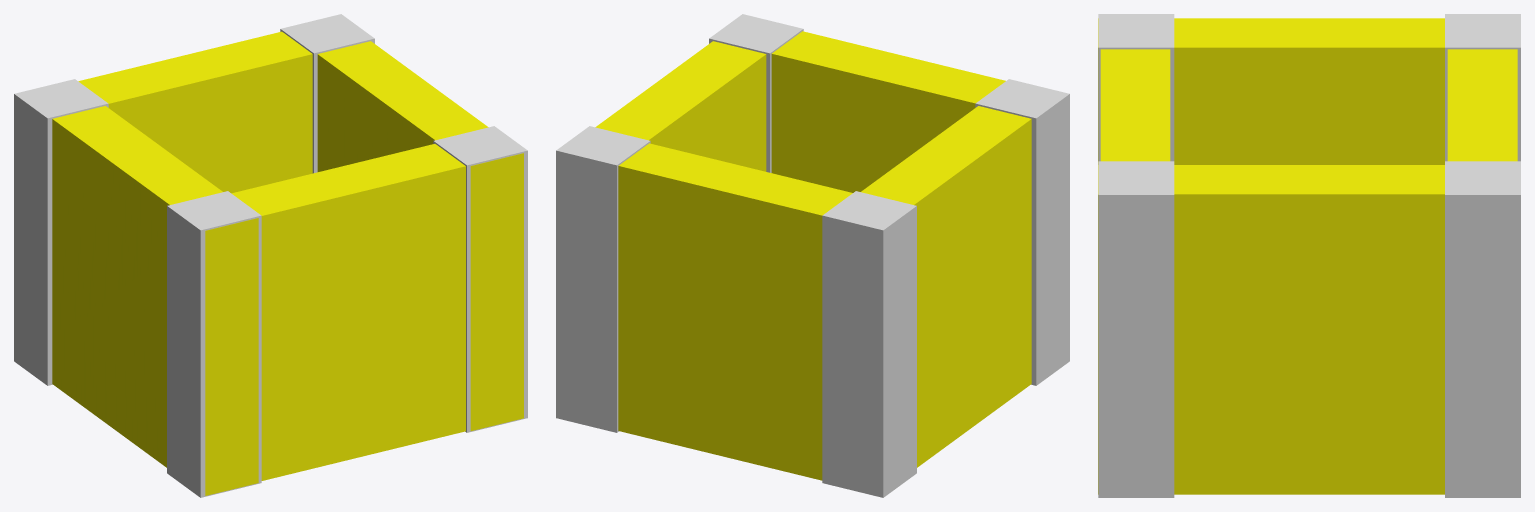
Rendered from ItemBox_Yellow.fbx.
The picture shows the model from 3 angles, left to right: view 1: azimuth 30°, elevation 25°; view 2: azimuth 150°, elevation 25°; view 3: azimuth 270°, elevation 25°; orthographic projection. The views are drawn at different scales.
Parts seen in each view (by area): view 1: Box004, Box001, Box002, Box003, Box006, Box005, Box008, Box007; view 2: Box003, Box001, Box005, Box004, Box007, Box002, Box006, Box008; view 3: Box002, Box001, Box008, Box007, Box003, Box004, Box006, Box005.
Boxes of the visible parts, x1=… form: Box004: x1=231, y1=144, x2=465, y2=480; Box001: x1=52, y1=106, x2=258, y2=495; Box002: x1=317, y1=41, x2=523, y2=430; Box003: x1=78, y1=31, x2=312, y2=193; Box006: x1=167, y1=191, x2=261, y2=497; Box005: x1=14, y1=79, x2=108, y2=385; Box008: x1=433, y1=126, x2=527, y2=432; Box007: x1=280, y1=14, x2=374, y2=173; Box003: x1=618, y1=143, x2=852, y2=480; Box001: x1=861, y1=106, x2=1031, y2=467; Box005: x1=822, y1=191, x2=916, y2=497; Box004: x1=771, y1=31, x2=1005, y2=192; Box007: x1=556, y1=126, x2=650, y2=432; Box002: x1=595, y1=41, x2=766, y2=171; Box006: x1=975, y1=79, x2=1069, y2=385; Box008: x1=709, y1=14, x2=803, y2=172; Box002: x1=1098, y1=165, x2=1444, y2=494; Box001: x1=1098, y1=18, x2=1444, y2=164; Box008: x1=1098, y1=161, x2=1174, y2=497; Box007: x1=1445, y1=161, x2=1520, y2=497; Box003: x1=1447, y1=49, x2=1517, y2=161; Box004: x1=1100, y1=49, x2=1170, y2=161; Box006: x1=1098, y1=14, x2=1174, y2=161; Box005: x1=1445, y1=14, x2=1520, y2=161.
Size of the model in its own units: 20.43 by 15.96 by 20.18.
